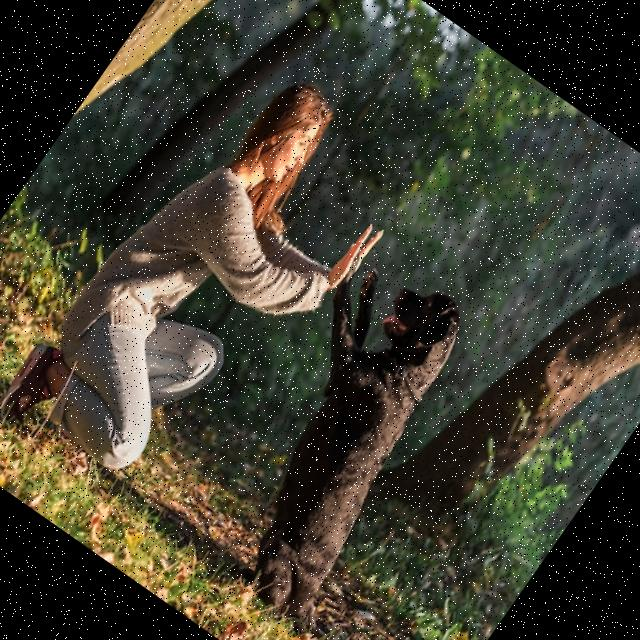Dog: (162, 236, 539, 640)
Person: (0, 38, 430, 533)
